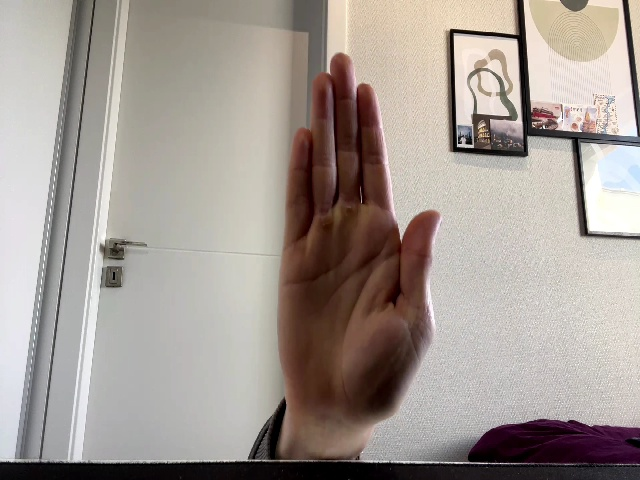B: (277, 53, 443, 427)
